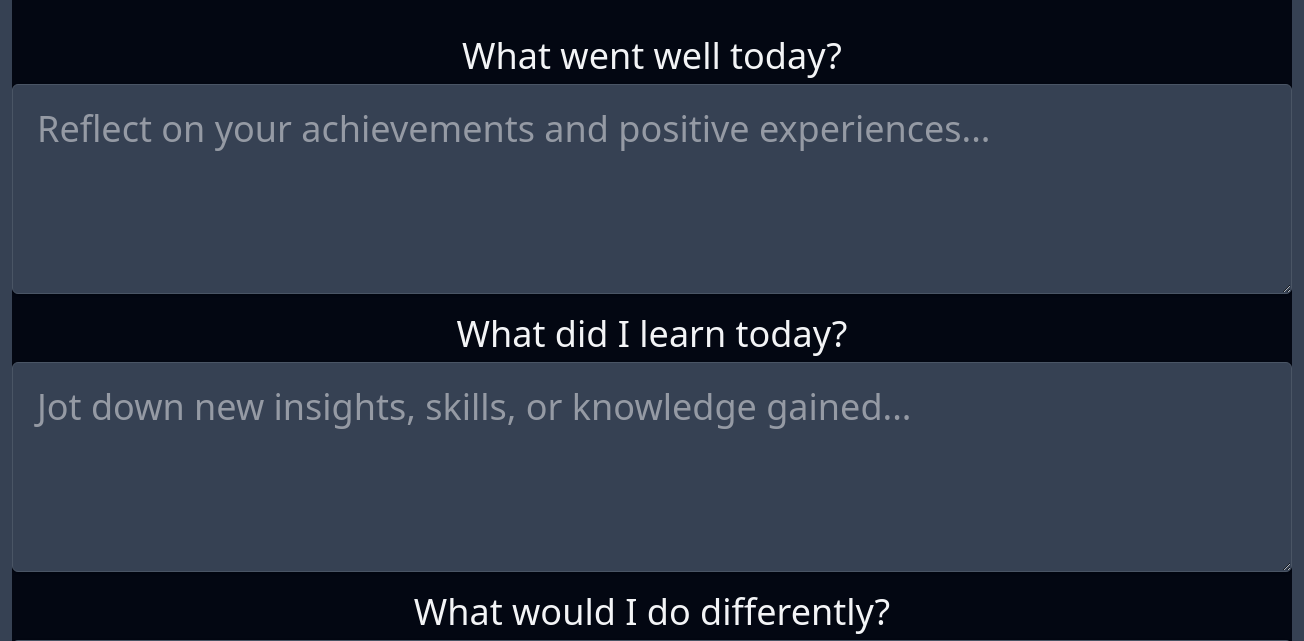
Test: DEV_JournalingForm › allows editing of an editable title
# Double-click to enter edit mode
Step 1. Double-click the button "What went well today?" → (652, 163), box [12,32,1292,294]
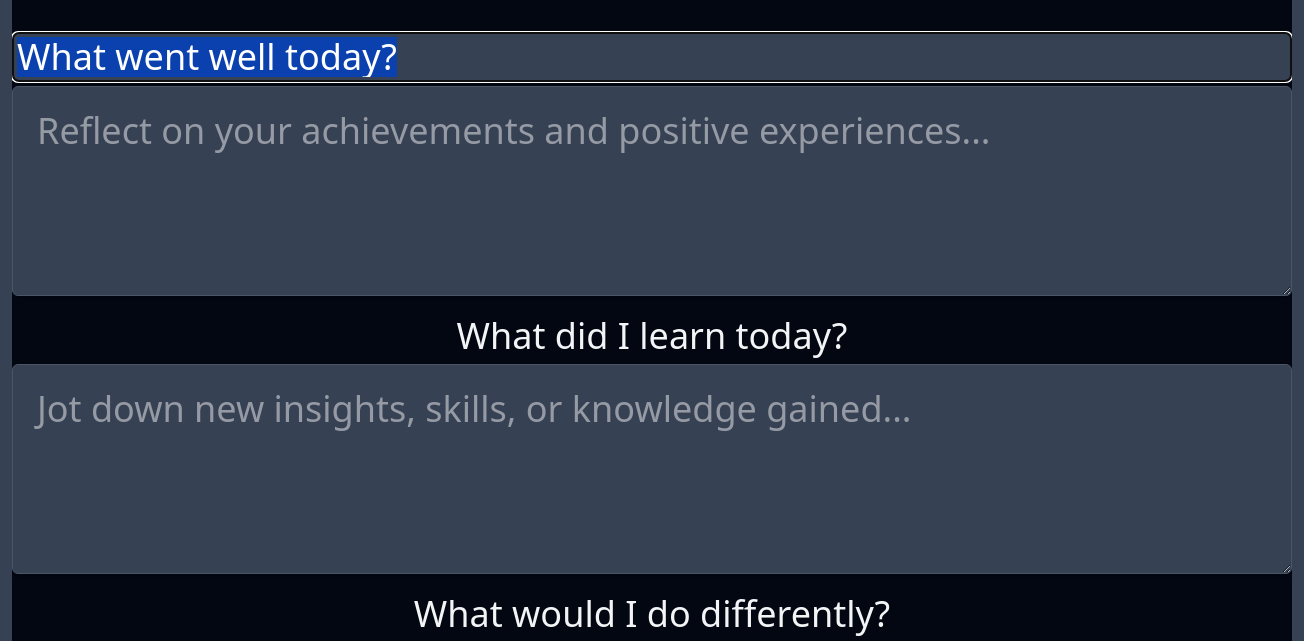
Result: the field showing "What went well today?" is shown
# Change the title
Step 2. Replace the text in the field showing "What went well today?" with "A new title" → (652, 57), box [12,32,1292,82]
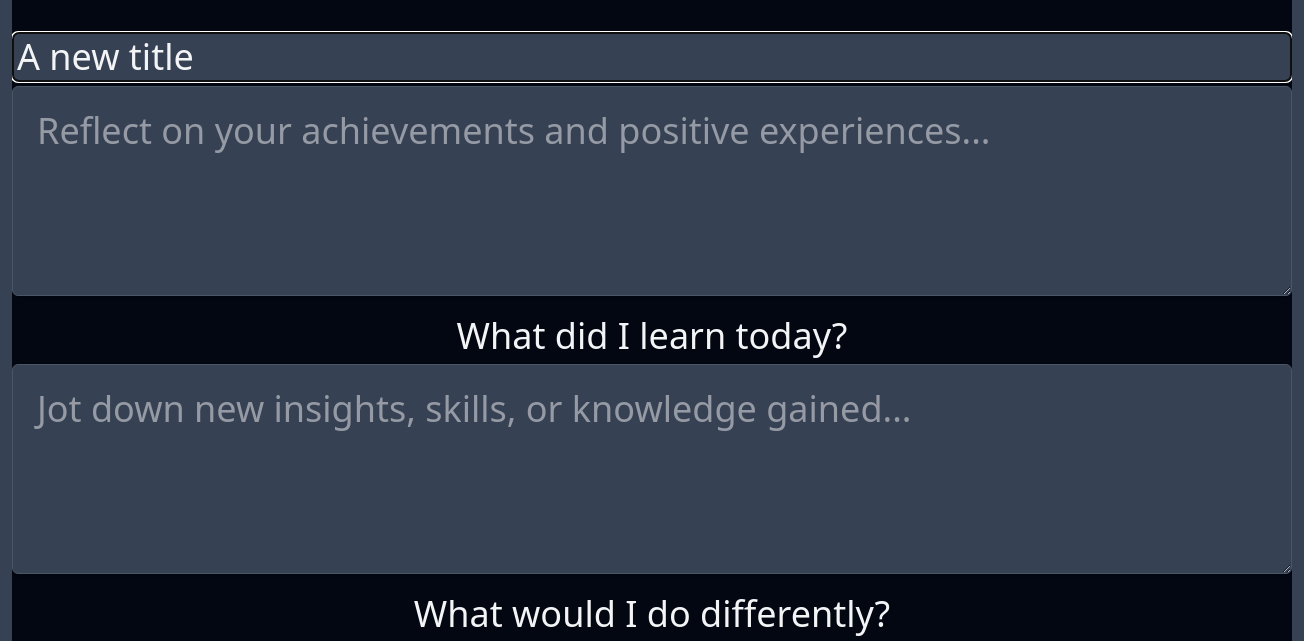
# Press Enter to save
Step 3. Press Enter in the field showing "What went well today?", box [12,32,1292,82]
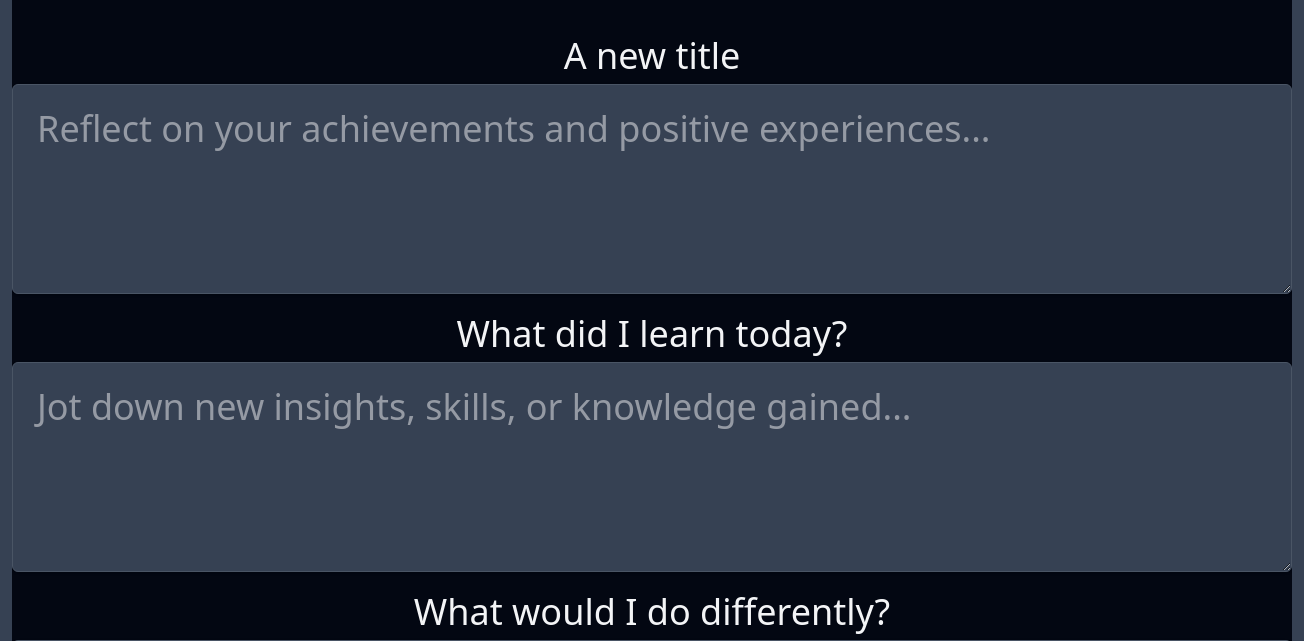
Result: the text "A new title" is shown at [564,31,740,80]
